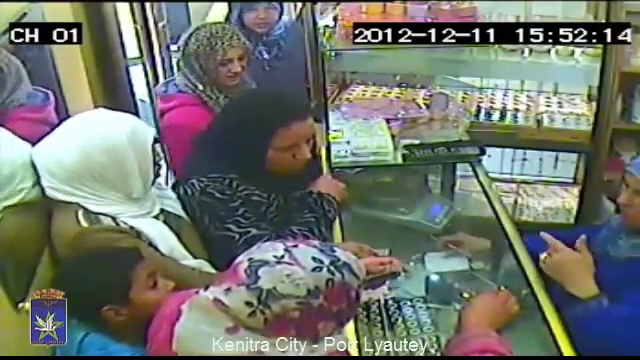face: (117, 254, 174, 313), (268, 127, 313, 178), (608, 167, 640, 232), (212, 42, 249, 80), (245, 1, 279, 32)
